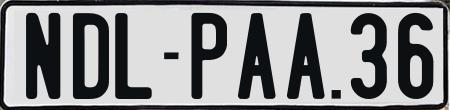3: (351, 10, 393, 99)
6: (397, 10, 431, 102)
A: (285, 13, 324, 104), (235, 13, 273, 100)
D: (73, 13, 111, 99)
L: (115, 12, 152, 101)
N: (25, 10, 62, 96)
P: (189, 10, 225, 99)
